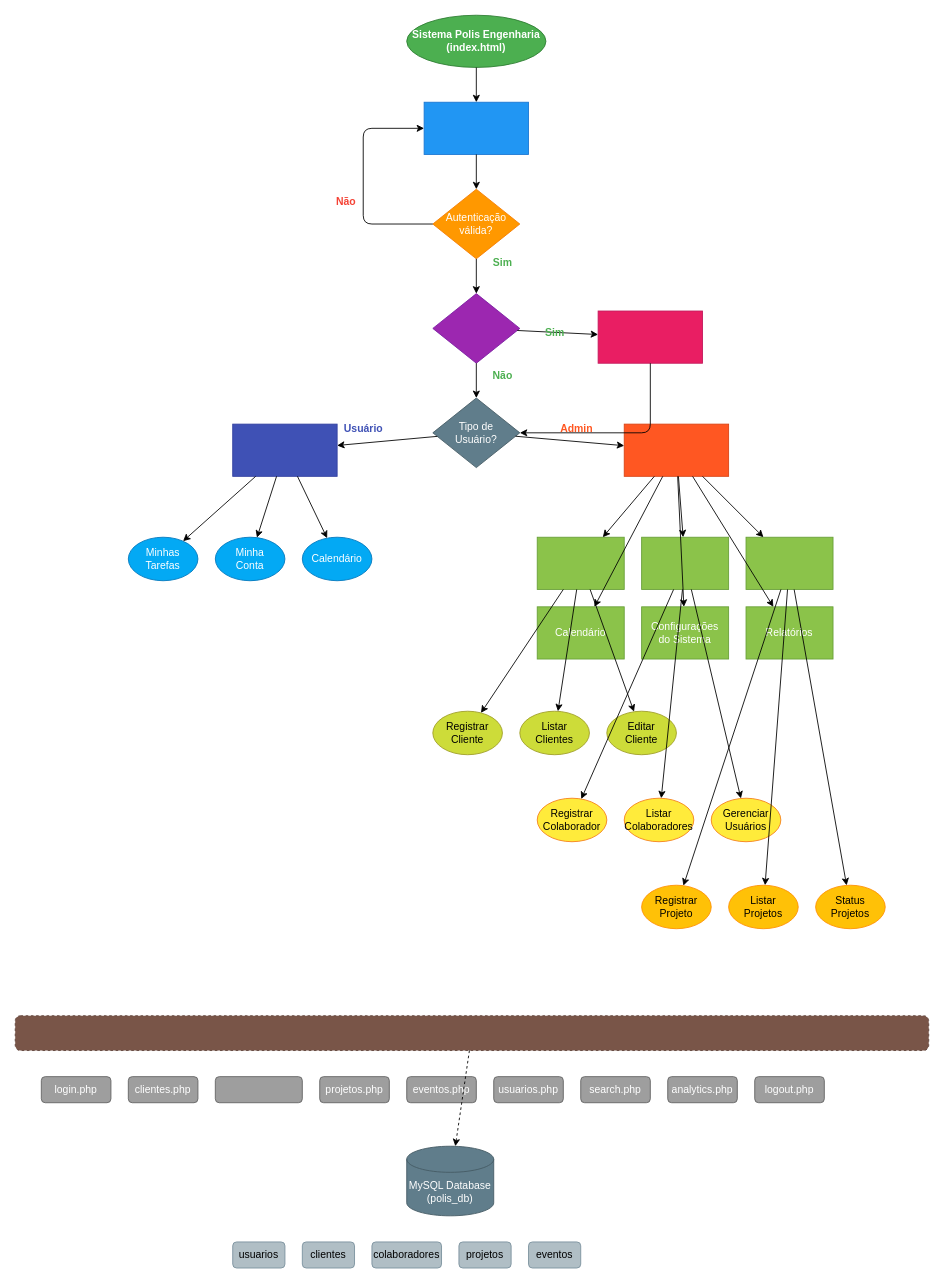
Image size: 944x1283. Some labels were removed from this diagram. The shapes that lost their labels are listed below. From the top down, each one's box as (x1, y1, x2, y2) in pixels, then its label:
(423, 101, 529, 154): Tela de Login
(432, 293, 520, 363): Primeira senha?
(597, 310, 703, 363): Alterar Primeira Senha
(232, 423, 337, 476): Dashboard Usuário
(623, 423, 729, 476): Dashboard Administrador
(536, 536, 624, 589): Gestão de Clientes
(641, 536, 729, 589): Gestão de Colaboradores
(745, 536, 833, 589): Gestão de Projetos
(14, 1015, 929, 1051): Camada de APIs
(214, 1076, 302, 1103): colaboradores.php
